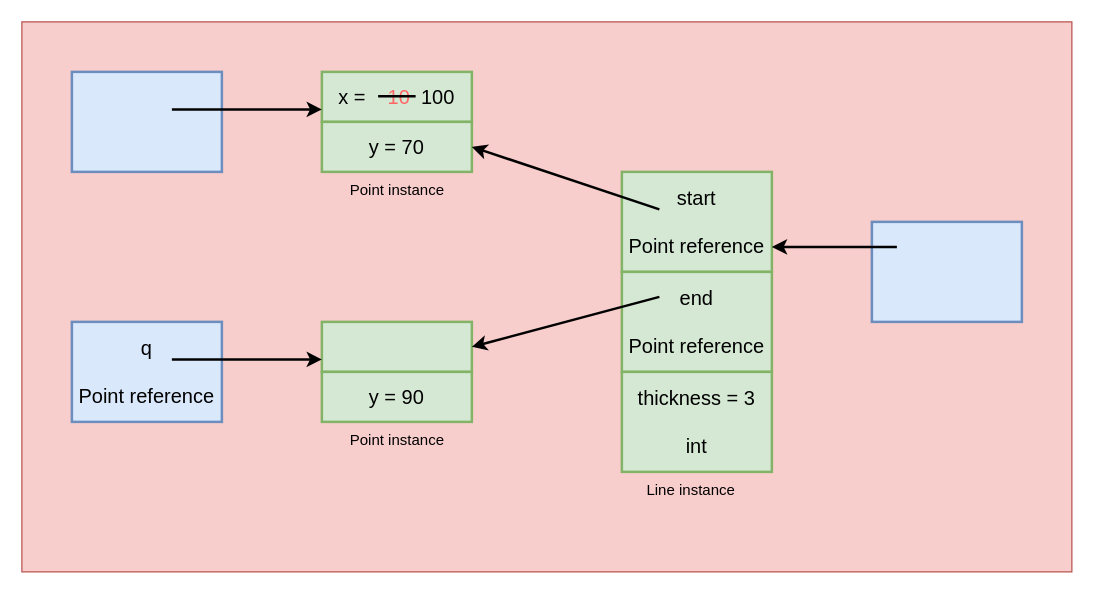
The diagram is 1094 pixels wide and 594 high, and some of its shapes have lost their labels. Here are the shapes that lost their labels. From the top down, the box of each, then its label:
(70, 70, 222, 172): p Point reference
(870, 220, 1022, 322): pToQ Line reference
(320, 320, 472, 372): x = 20
